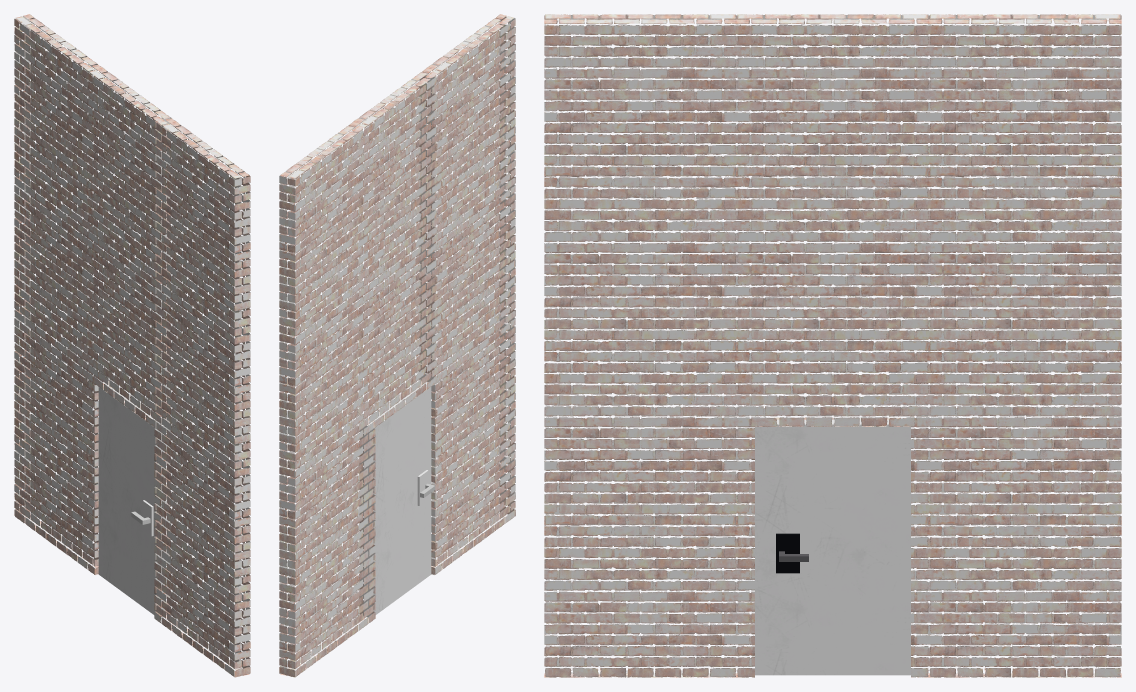
The model's file is OLD_Door.obj.
The picture shows the model from 3 angles, left to right: view 1: azimuth 30°, elevation 25°; view 2: azimuth 150°, elevation 25°; view 3: azimuth 270°, elevation 25°; orthographic projection. The views are drawn at different scales.
Visible parts, largest first — view 1: Wall1, Door1; view 2: Wall1, Door1; view 3: Wall1, Door1.
Boxes of the visible parts, x1,y1,x2,y2 form: Wall1: (14,14,250,677); Door1: (98,382,166,617); Wall1: (279,14,515,677); Door1: (363,382,431,617); Wall1: (544,14,1121,677); Door1: (755,419,910,675).
Bounding box in the file's own units: 1.75 × 30 × 24.
